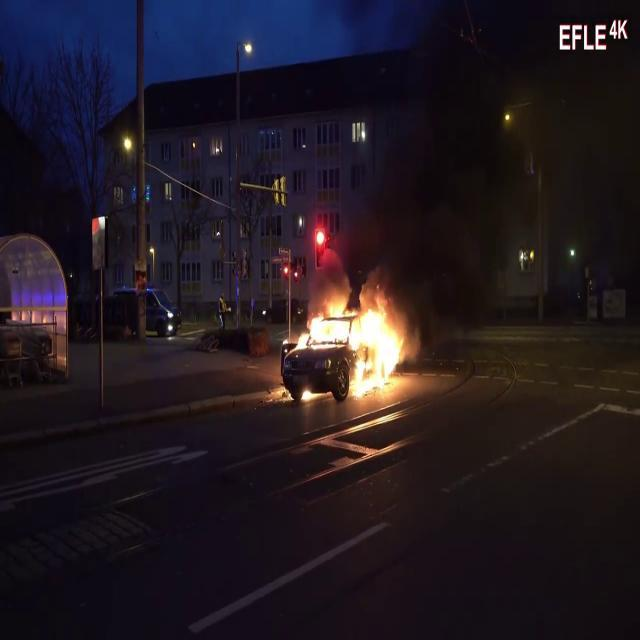Fire: (294, 292, 410, 397)
